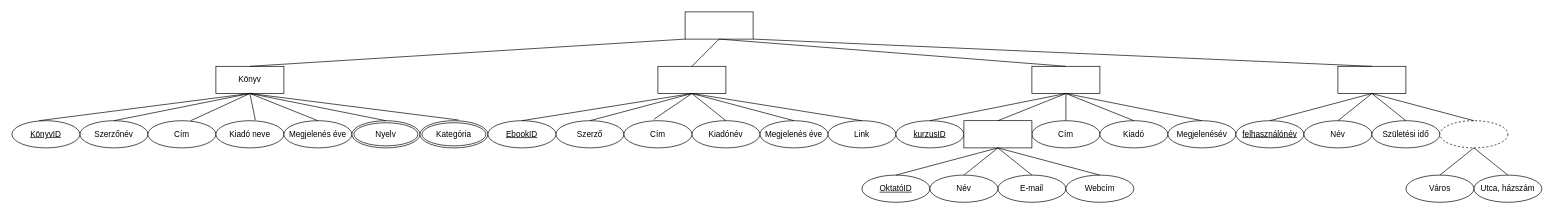
Some shapes in this 1554 by 214 pixel diagram are drawn without their labels. The centre of each missing label's shape, as x and y in pixels:
"Ebook" belongs at [691,80].
"Lakcím" belongs at [1473,134].
"Oktatási központ- tanulás" belongs at [718,25].
"Oktató" belongs at [997,134].
"Online kurzus" belongs at [1065,80].
"Tanuló" belongs at [1371,80].
